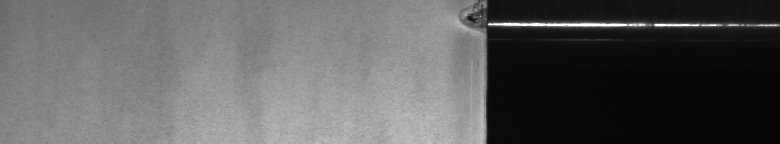hb: (455, 4, 476, 36)
